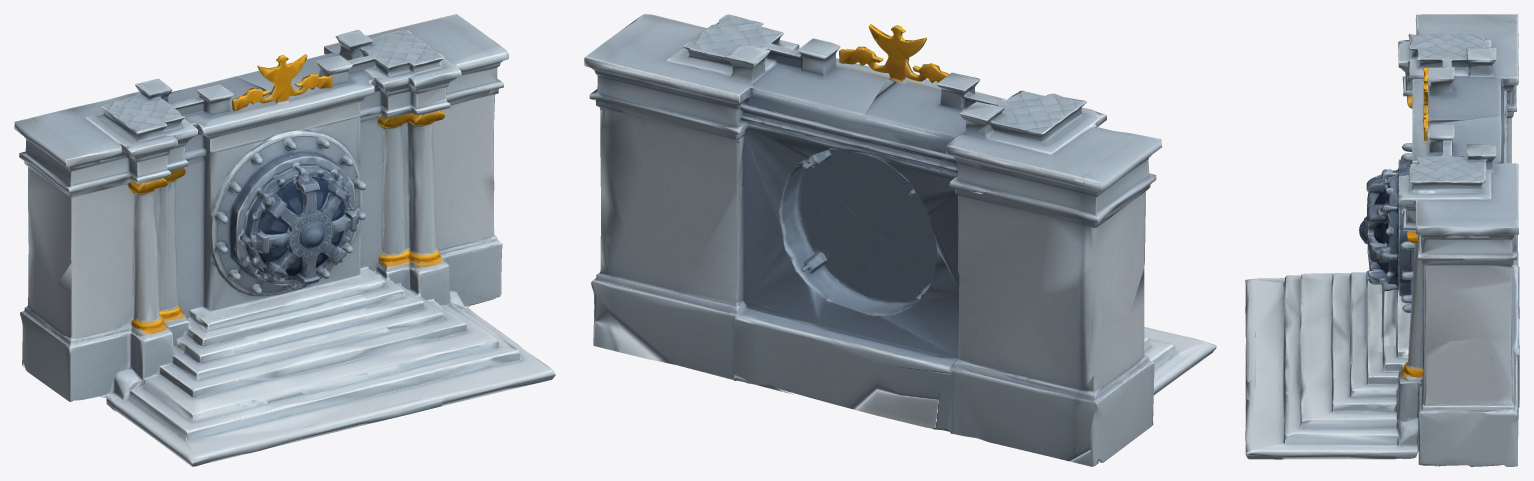
Rendered from big_vault.fbx.
3 renders of one model, left to right at view 1: azimuth 30°, elevation 25°; view 2: azimuth 150°, elevation 25°; view 3: azimuth 270°, elevation 25°, orthographic. The views are drawn at different scales.
Parts seen in each view (by area): view 1: big_vault; view 2: big_vault; view 3: big_vault.
Part boxes in pixels (box(x1,y1,x2,y2)): big_vault: box(14, 14, 555, 466); big_vault: box(584, 14, 1216, 466); big_vault: box(1245, 14, 1519, 466).
Size of the model in its own units: 1.9 by 1.24 by 1.03.
1 material, 1 textured.
